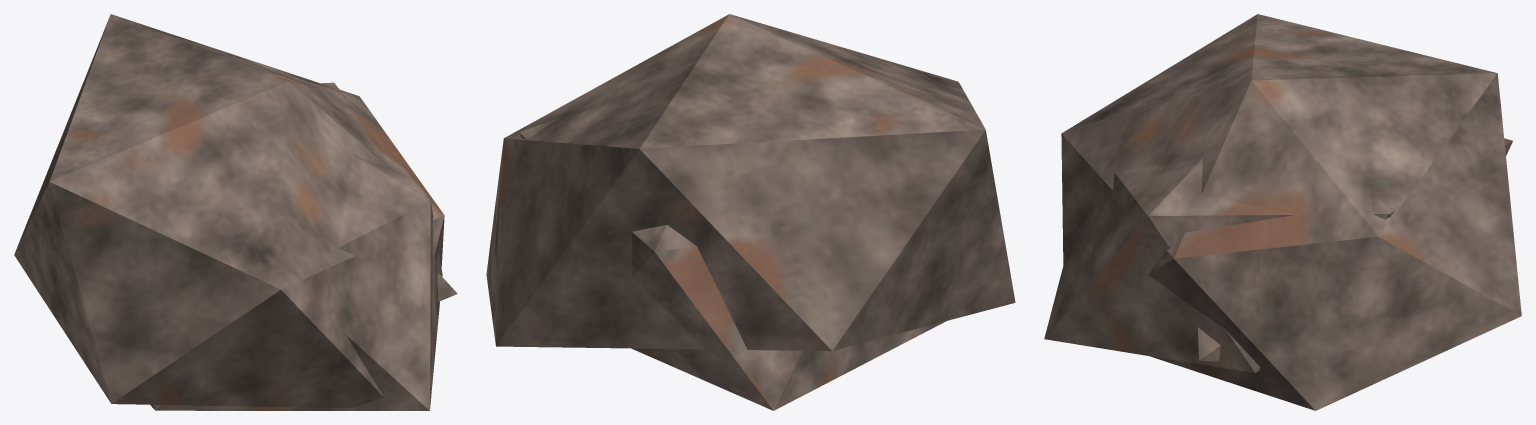
The model's file is ore_chunk.fbx.
The picture shows the model from 3 angles, left to right: view 1: azimuth 30°, elevation 25°; view 2: azimuth 150°, elevation 25°; view 3: azimuth 270°, elevation 25°; orthographic projection. The views are drawn at different scales.
Parts seen in each view (by area): view 1: OreChunkA_OreRock, OreChunkC_OreRock; view 2: OreChunkA_OreRock, OreChunkC_OreRock; view 3: OreChunkA_OreRock, OreChunkC_OreRock, OreChunkB_OreRock.
Part boxes in pixels (left/top/right/bottom): OreChunkA_OreRock: left=14, top=14, right=444, bottom=408; OreChunkC_OreRock: left=150, top=82, right=442, bottom=410; OreChunkA_OreRock: left=486, top=14, right=1015, bottom=351; OreChunkC_OreRock: left=519, top=117, right=946, bottom=410; OreChunkA_OreRock: left=1061, top=14, right=1521, bottom=410; OreChunkC_OreRock: left=1044, top=138, right=1512, bottom=373; OreChunkB_OreRock: left=1187, top=327, right=1220, bottom=361.
Size of the model in its own units: 1.06 by 0.614 by 1.09.
1 material, 1 textured.
